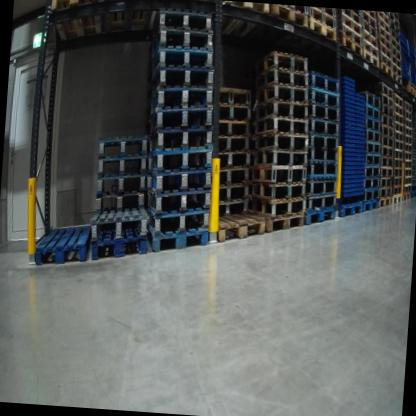pallet: (87, 214, 156, 266), (32, 217, 93, 272), (139, 121, 215, 165), (144, 43, 216, 87), (146, 101, 215, 145), (88, 198, 151, 245), (147, 6, 210, 52), (148, 22, 218, 62), (145, 85, 212, 124), (212, 1, 274, 43), (150, 61, 218, 99), (103, 0, 157, 47), (48, 0, 107, 43), (143, 163, 216, 197), (143, 201, 213, 234), (147, 225, 212, 260), (149, 181, 210, 218), (151, 142, 213, 177), (96, 146, 152, 183), (212, 211, 267, 248), (242, 66, 311, 94), (253, 99, 311, 131), (252, 204, 307, 237), (253, 157, 310, 188), (248, 130, 313, 157), (257, 49, 319, 76), (95, 131, 150, 160), (96, 167, 153, 194), (256, 112, 313, 139), (258, 82, 312, 110), (254, 146, 311, 172), (97, 190, 150, 217), (210, 156, 256, 186), (210, 98, 259, 125), (304, 16, 342, 50), (211, 125, 257, 153), (212, 81, 253, 112), (206, 195, 256, 220), (252, 193, 302, 218), (306, 198, 340, 232), (255, 179, 306, 201), (305, 186, 338, 218), (211, 117, 254, 140), (303, 84, 340, 110), (265, 6, 310, 26), (305, 171, 341, 195), (213, 181, 254, 202), (306, 142, 343, 165), (304, 68, 339, 92), (305, 114, 341, 137), (305, 157, 341, 180), (218, 148, 254, 170), (331, 199, 364, 223), (307, 7, 340, 29), (304, 102, 342, 121), (307, 128, 340, 149), (338, 11, 363, 38), (339, 19, 363, 40), (337, 37, 363, 54), (362, 17, 381, 39), (357, 155, 383, 171), (362, 47, 380, 70), (362, 141, 384, 158), (358, 93, 384, 107), (359, 197, 379, 215), (363, 104, 381, 124), (362, 163, 384, 179), (310, 7, 337, 20), (340, 11, 365, 25), (376, 82, 396, 99), (361, 175, 382, 191), (363, 38, 380, 57), (366, 129, 383, 147), (362, 30, 380, 47), (361, 187, 382, 201), (377, 42, 393, 60), (378, 25, 393, 44), (379, 133, 396, 149), (376, 12, 394, 27), (378, 33, 392, 52), (379, 92, 395, 108), (272, 8, 308, 15), (365, 119, 383, 133), (378, 15, 392, 33), (393, 109, 406, 128), (380, 65, 395, 81), (363, 11, 378, 26), (400, 141, 416, 155), (390, 36, 406, 50), (379, 52, 393, 68), (403, 80, 416, 97), (380, 102, 395, 116), (391, 43, 405, 58), (377, 198, 393, 211), (379, 115, 395, 128), (388, 15, 404, 28), (391, 53, 404, 68), (391, 178, 402, 195), (380, 168, 394, 181), (392, 120, 405, 134), (381, 123, 396, 135), (393, 68, 403, 86), (390, 17, 400, 34), (381, 144, 395, 156), (391, 139, 405, 151), (380, 158, 395, 169), (393, 164, 404, 179), (392, 27, 403, 42), (377, 189, 393, 199), (392, 131, 404, 144), (401, 176, 413, 189), (392, 91, 403, 105), (402, 183, 414, 195), (401, 160, 414, 171), (393, 63, 404, 76), (392, 193, 402, 207), (403, 100, 413, 114), (399, 194, 411, 204), (395, 157, 404, 170), (404, 124, 413, 137), (391, 176, 402, 186), (403, 170, 414, 180), (402, 135, 413, 145), (392, 152, 404, 161), (382, 179, 393, 188), (404, 111, 415, 120), (394, 104, 402, 116), (403, 153, 413, 162), (404, 118, 412, 128), (390, 13, 401, 18)
